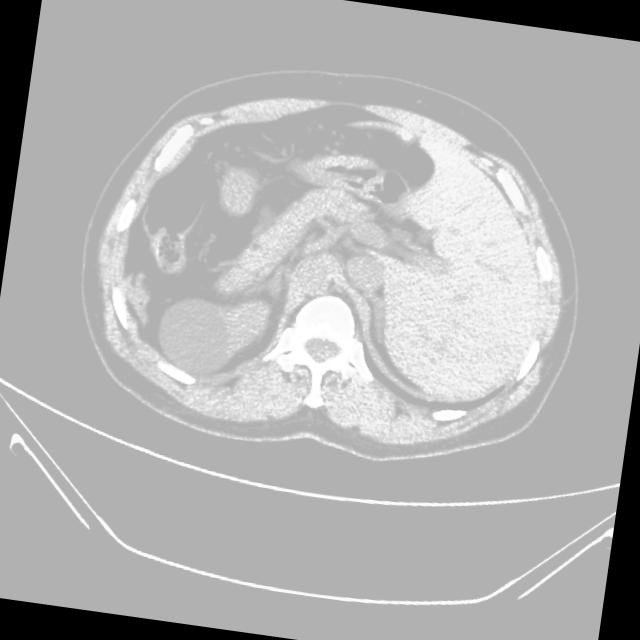cysts: (61, 44, 606, 489)
